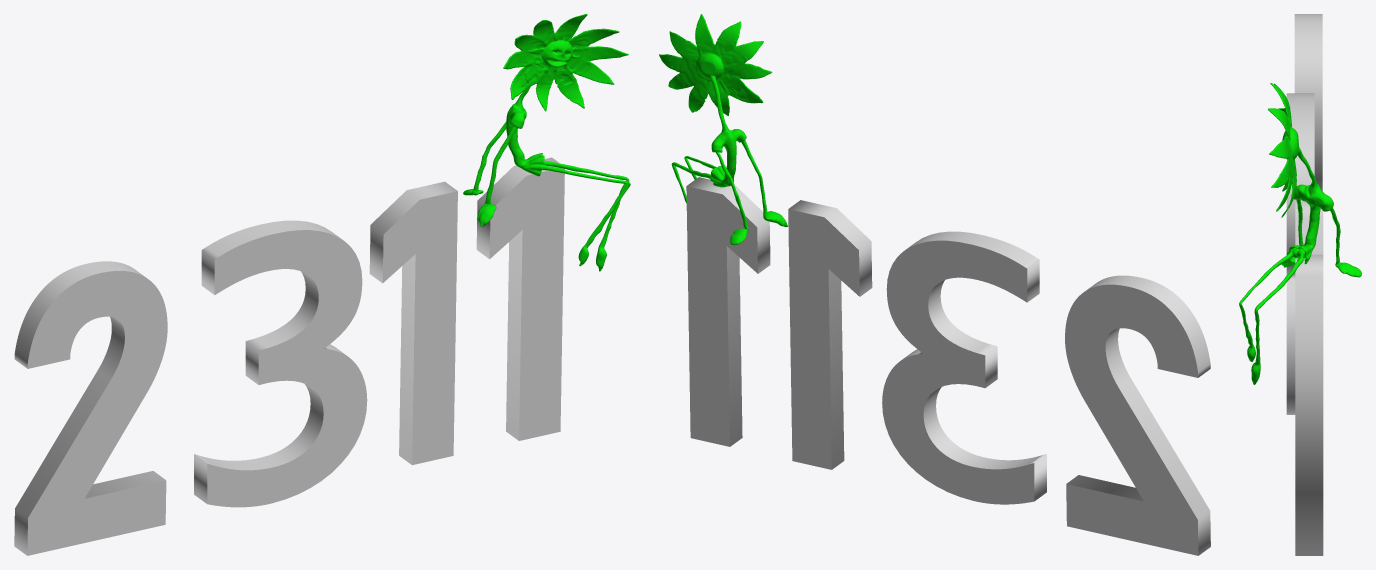
File: 2311bannerstaticwhite.glb
3 renders of one model, left to right at view 1: azimuth 30°, elevation 25°; view 2: azimuth 150°, elevation 25°; view 3: azimuth 270°, elevation 25°, orthographic. The views are drawn at different scales.
Parts seen in each view (by area): view 1: Text, Text.002, Text.001, Mesh_0.001; view 2: Text, Text.002, Text.001, Mesh_0.001; view 3: Text, Mesh_0.001, Text.001, Text.002.
Boxes of the visible parts, x1,y1,x2,y2 form: Text: (369,157,564,465); Text.002: (14,261,167,555); Text.001: (194,220,367,507); Mesh_0.001: (463,14,630,271); Text: (686,177,872,469); Text.002: (1065,275,1210,555); Text.001: (882,231,1046,504); Mesh_0.001: (659,14,787,245); Text: (1295,199,1323,555); Mesh_0.001: (1239,83,1361,384); Text.001: (1286,93,1314,414); Text.002: (1294,14,1322,190).
Size of the model in its own units: 1.15 by 0.7927 by 0.1926.
